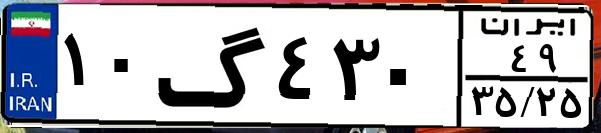0: (385, 28, 445, 110), (110, 28, 156, 98)
1: (57, 26, 110, 100)
2: (535, 70, 560, 125)
3: (330, 28, 385, 110), (470, 70, 495, 125)
4: (270, 28, 330, 110), (508, 27, 537, 80)
5: (560, 70, 590, 125), (495, 70, 520, 125)
9: (537, 27, 568, 80)
گ: (156, 12, 270, 120)
